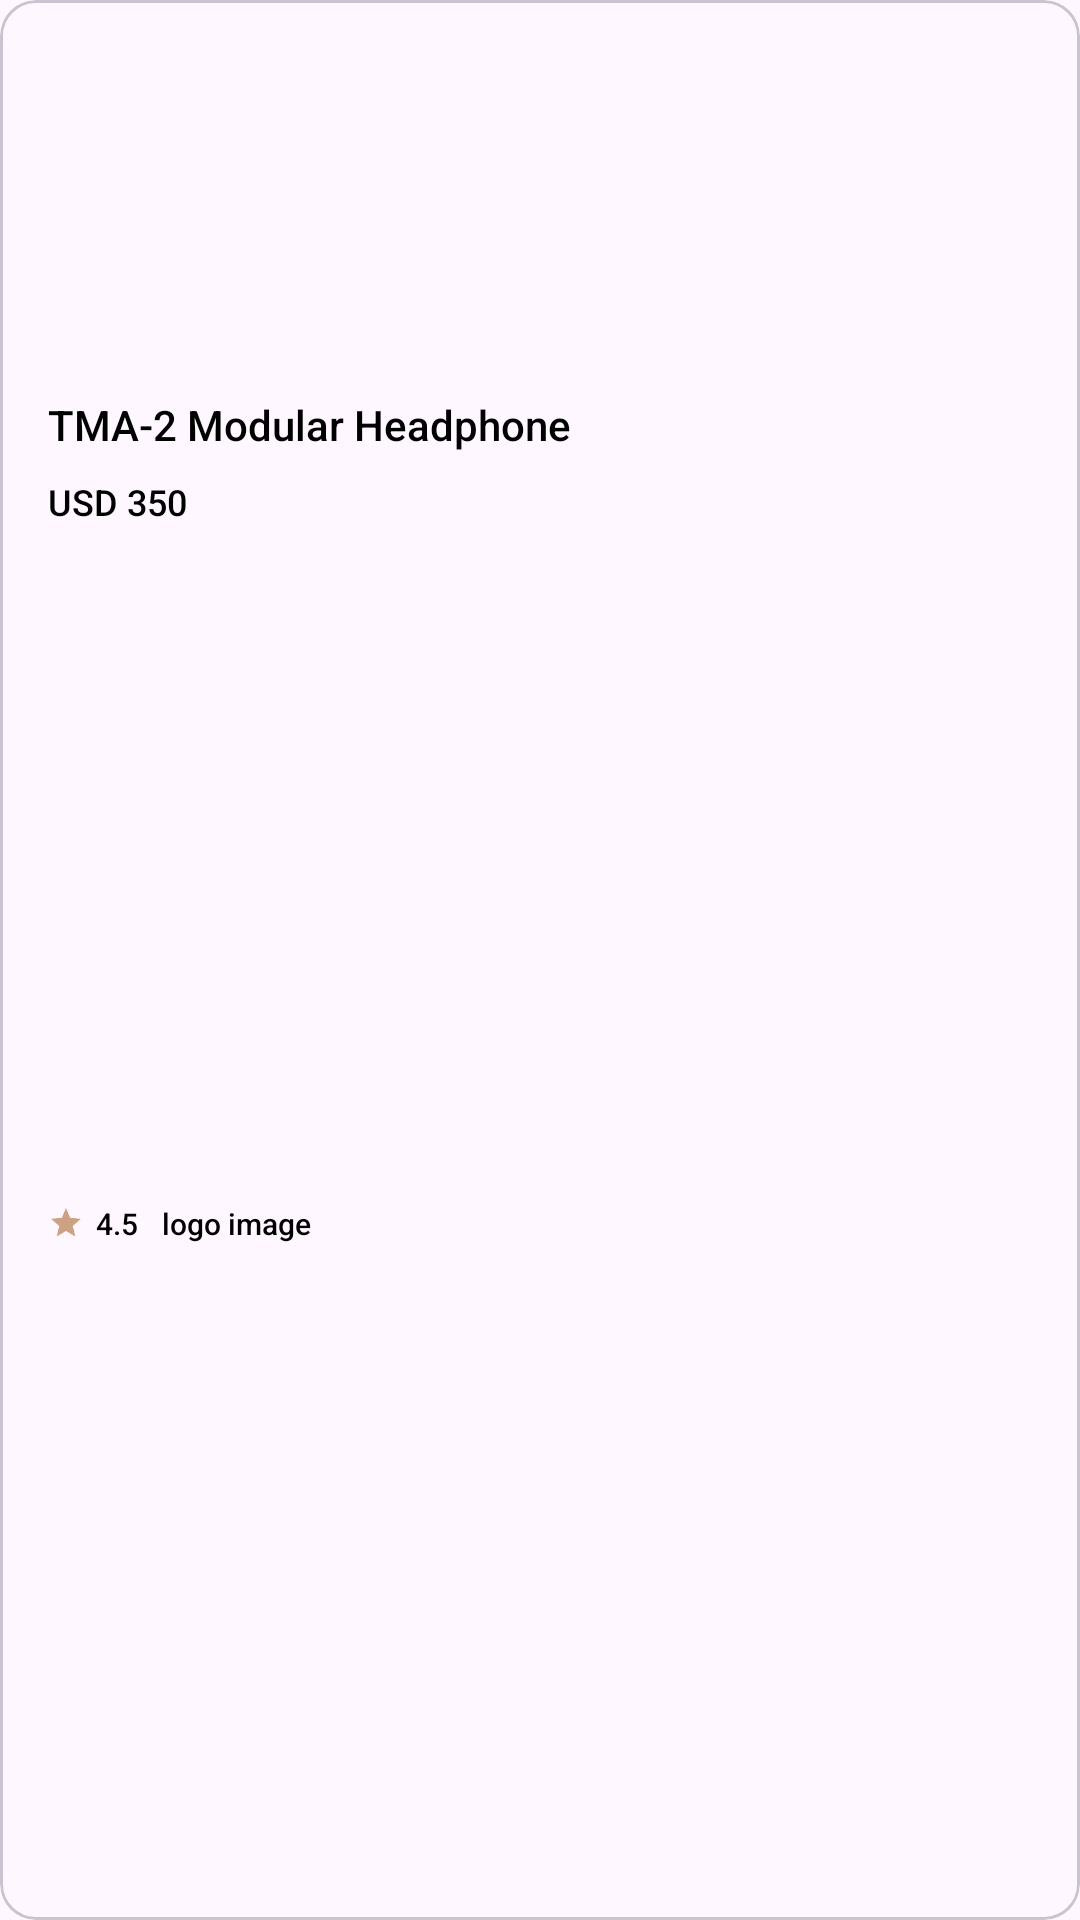

Screen size 1080w x 1920h. Icon name, then its center in pixels as point (x, y):
star: point (66, 1222)
